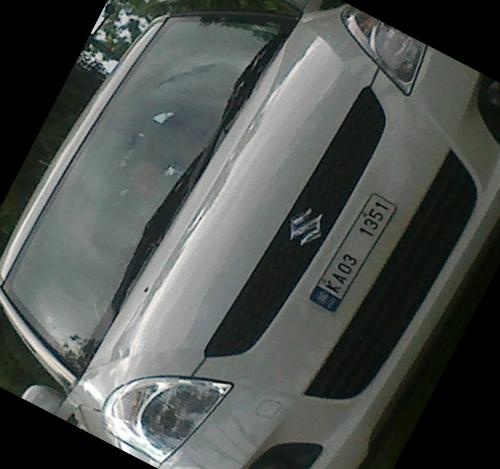plate: (304, 173, 411, 320)
